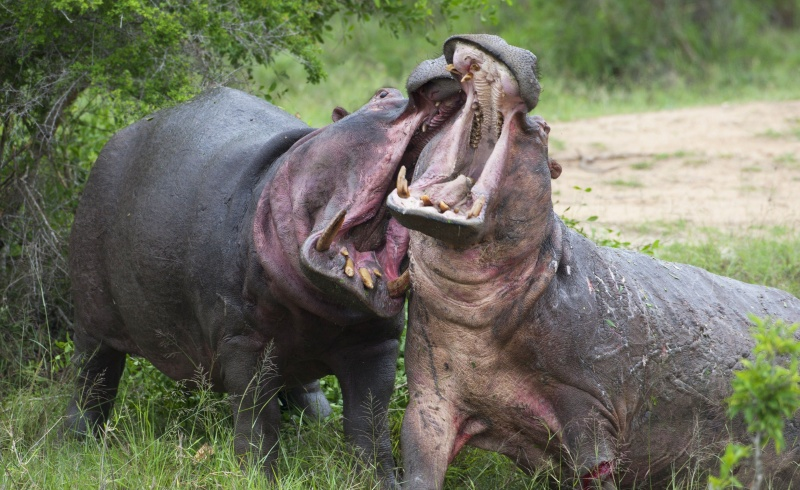hipopotamo: (391, 31, 752, 490), (71, 62, 447, 490)
